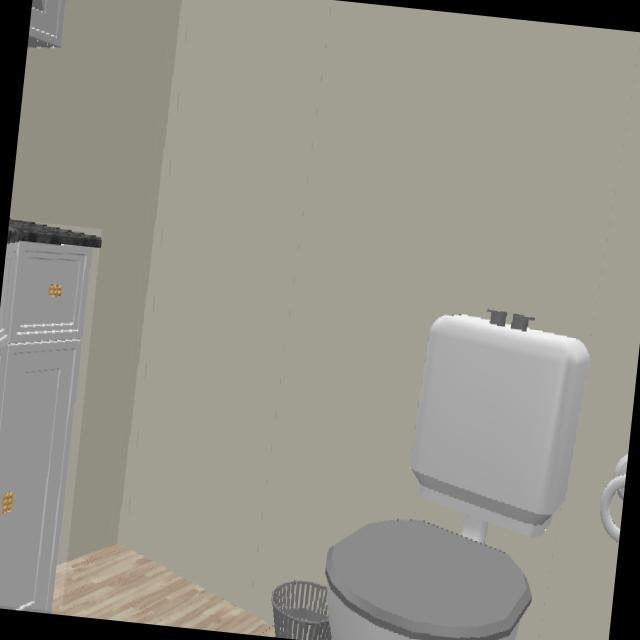cabinet: (0, 220, 100, 610)
toilet: (325, 311, 588, 640)
